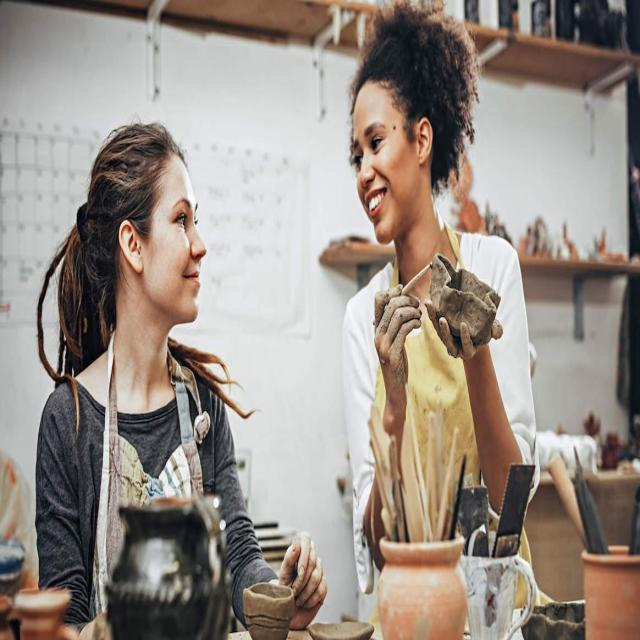adult: (36, 123, 328, 640), (342, 2, 542, 640)
